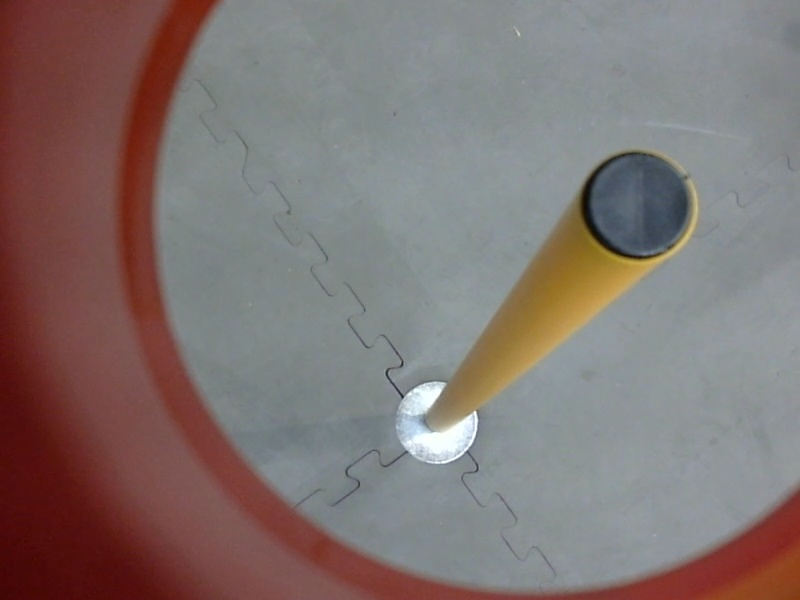tip: (568, 134, 708, 269)
